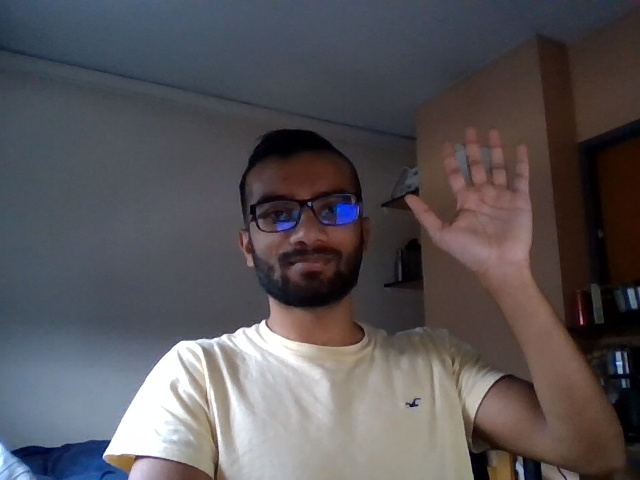Hello: (398, 121, 544, 265)
